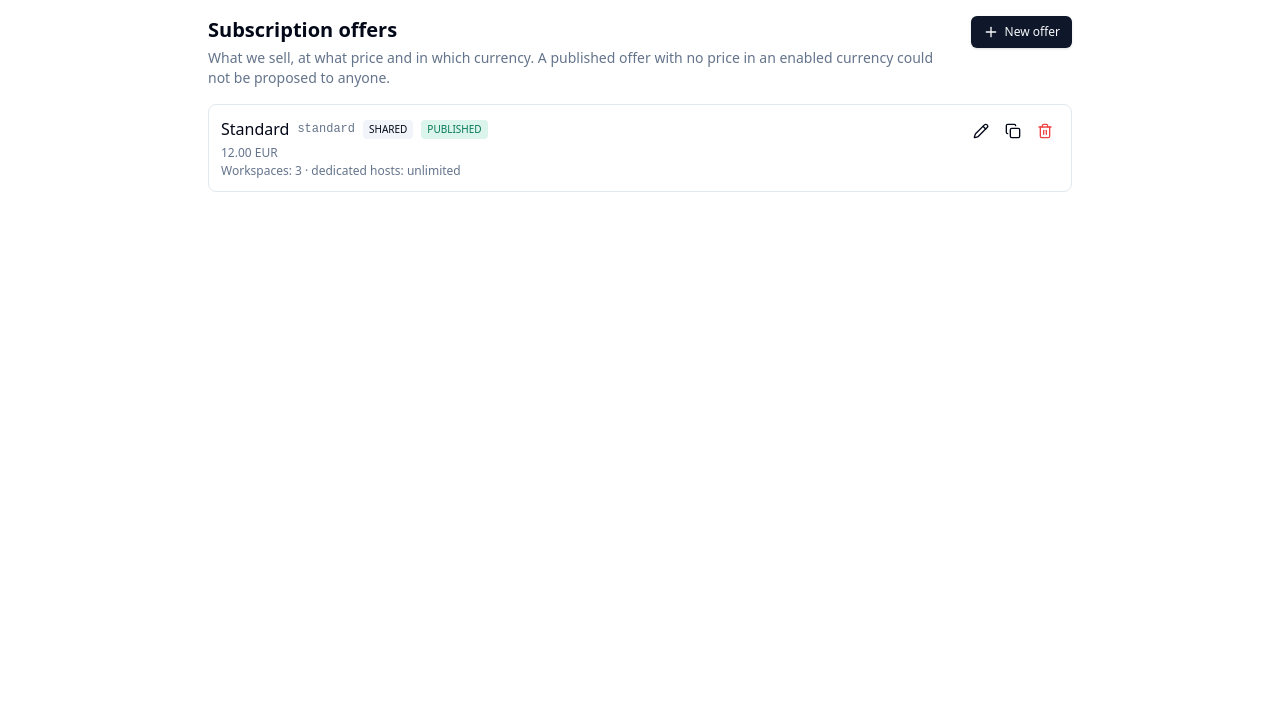
it: AdminBillingOffers › rend le refus du serveur quand une offre est deja souscrite
Click the button named "Delete offer". click: [1045, 131]
box: [1031,117,1059,145]
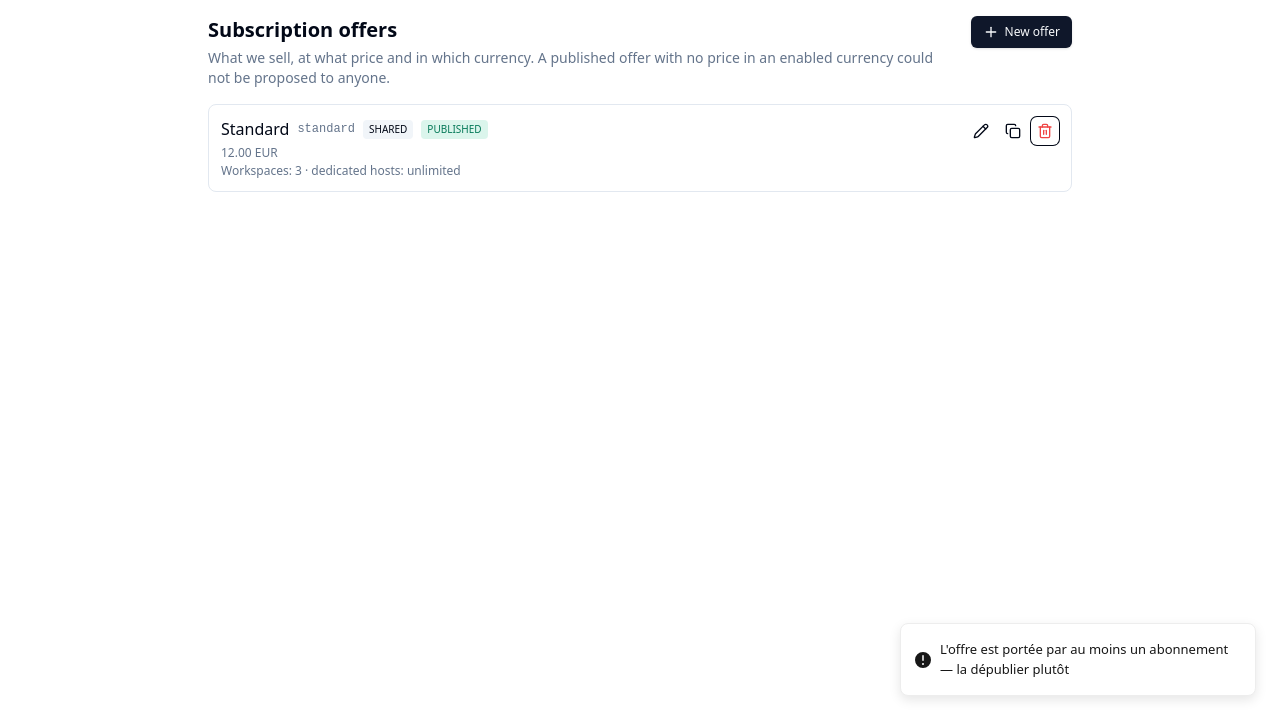
Expected: the text "la dépublier plutôt" is shown, [940,640,1228,678]
